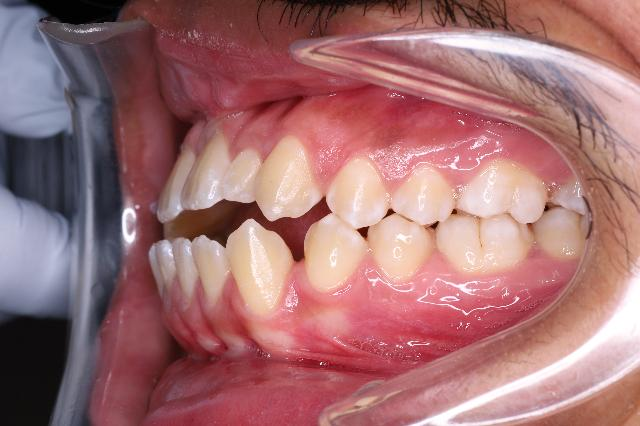canine class II 1/4: (227, 136, 369, 320)
molar class III 1/4: (434, 155, 548, 283)
